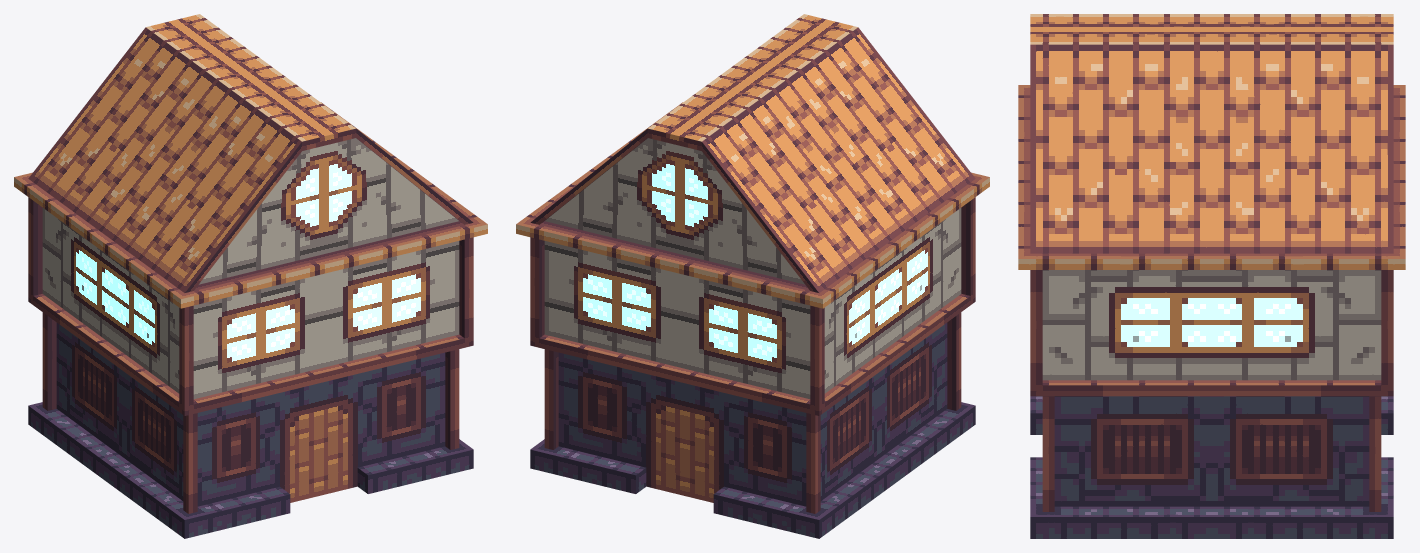
File: pixel_house.glb
3 renders of one model, left to right at view 1: azimuth 30°, elevation 25°; view 2: azimuth 150°, elevation 25°; view 3: azimuth 270°, elevation 25°, orthographic. The views are drawn at different scales.
Visible parts, largest first — view 1: Cube.001_0; view 2: Cube.001_0; view 3: Cube.001_0.
Part boxes in pixels (left/top/right/bottom): Cube.001_0: left=14, top=14, right=487, bottom=538; Cube.001_0: left=516, top=14, right=989, bottom=538; Cube.001_0: left=1018, top=14, right=1405, bottom=538.
Bounding box in the file's own units: 0.2125 × 0.2438 × 0.2.
Materials: 1 (1 with a texture image).
